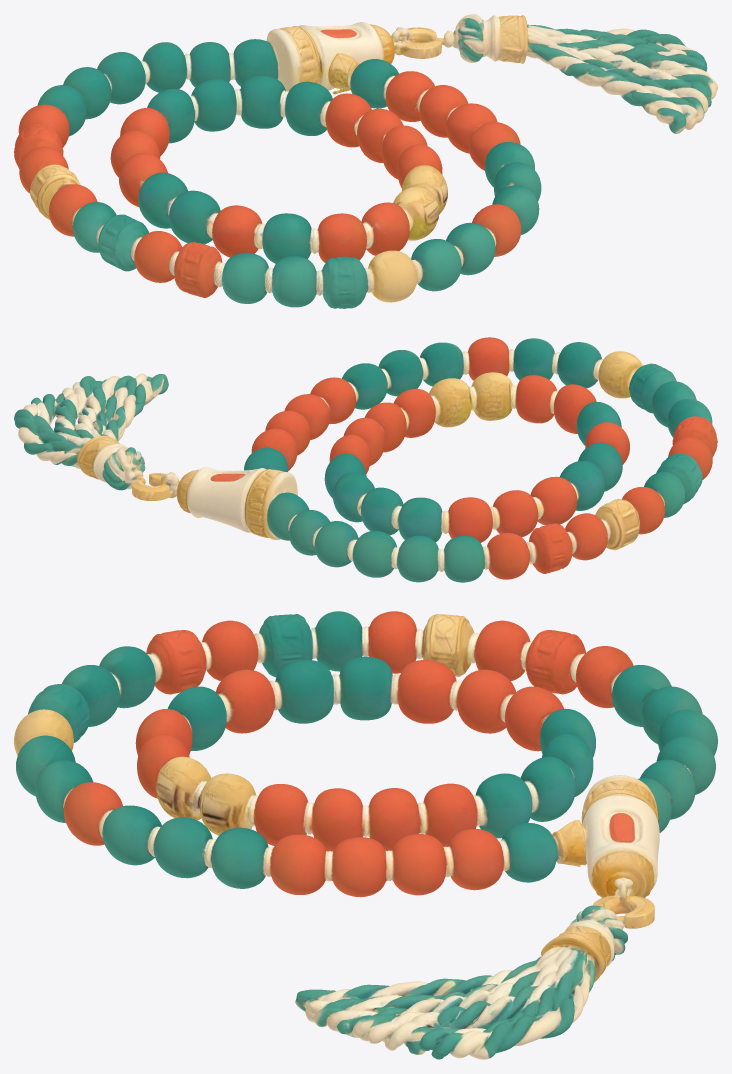
Rendered from tasbih-10-festival-two-tone.glb.
The picture shows the model from 3 angles, top to bottom: view 1: azimuth 30°, elevation 25°; view 2: azimuth 150°, elevation 25°; view 3: azimuth 270°, elevation 25°; orthographic projection. The views are drawn at different scales.
Parts seen in each view (by area): view 1: mesh_node; view 2: mesh_node; view 3: mesh_node.
Part boxes in pixels (box(x1,y1,x2,y2)): mesh_node: box(14, 14, 717, 308); mesh_node: box(14, 337, 717, 582); mesh_node: box(14, 611, 717, 1059).
Bounding box in the file's own units: 1.9 × 0.1933 × 1.44.
1 material, 1 textured.
